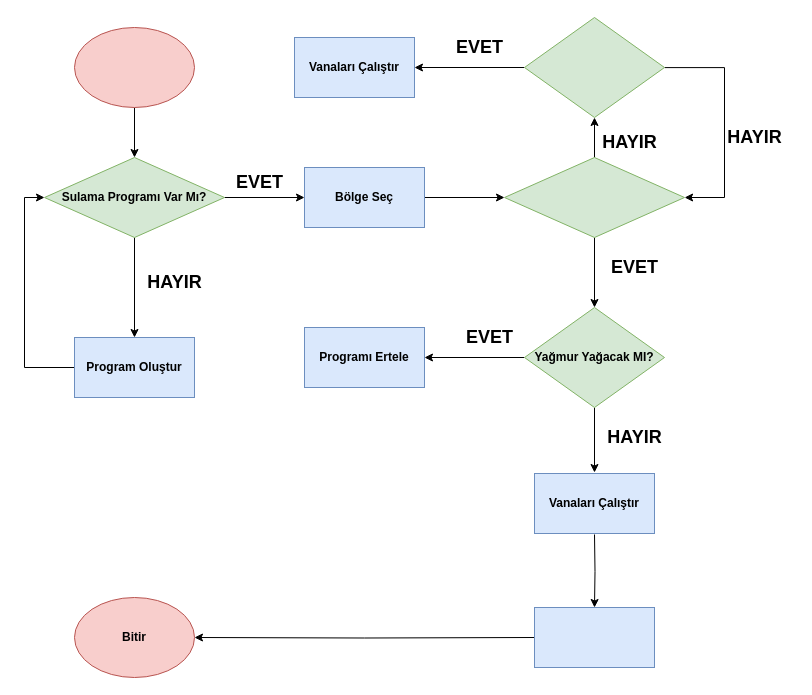
Image size: 812x695. Some labels were removed from this diagram. Here are the shapes that lost their labels. From the top down, the centre of each, then its label:
At point 134,67: "BAŞLA".
At point 594,67: "Manuel Yapılsın Mı?".
At point 594,197: "Sulama Zamanı Geldi Mi?".
At point 594,637: "Günlük Sulama Verilerini Kaydet".
